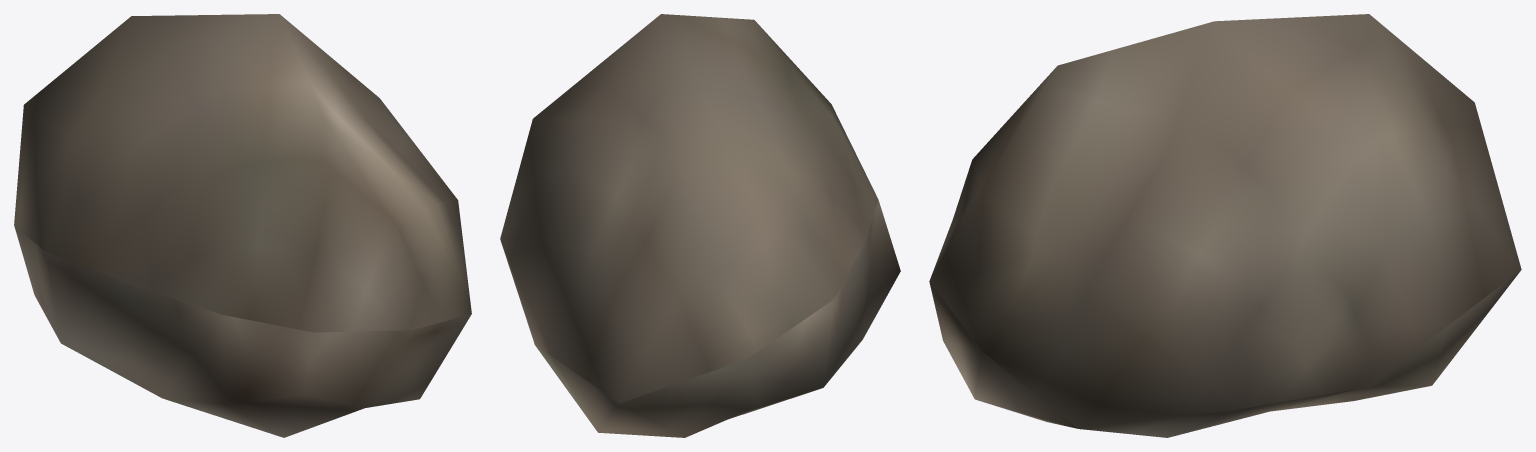
The model's file is rock_Tiny.fbx.
3 views of the same model, side by side, from view 1: azimuth 30°, elevation 25°; view 2: azimuth 150°, elevation 25°; view 3: azimuth 270°, elevation 25° (orthographic). The views are drawn at different scales.
Visible parts, largest first — view 1: rock_Tiny; view 2: rock_Tiny; view 3: rock_Tiny.
Boxes of the visible parts, <box> form: rock_Tiny: <box>14,14,471,437</box>; rock_Tiny: <box>500,14,900,437</box>; rock_Tiny: <box>929,14,1521,437</box>.
Size of the model in its own units: 48.47 by 45.26 by 62.2.
Materials: 1 (1 with a texture image).
